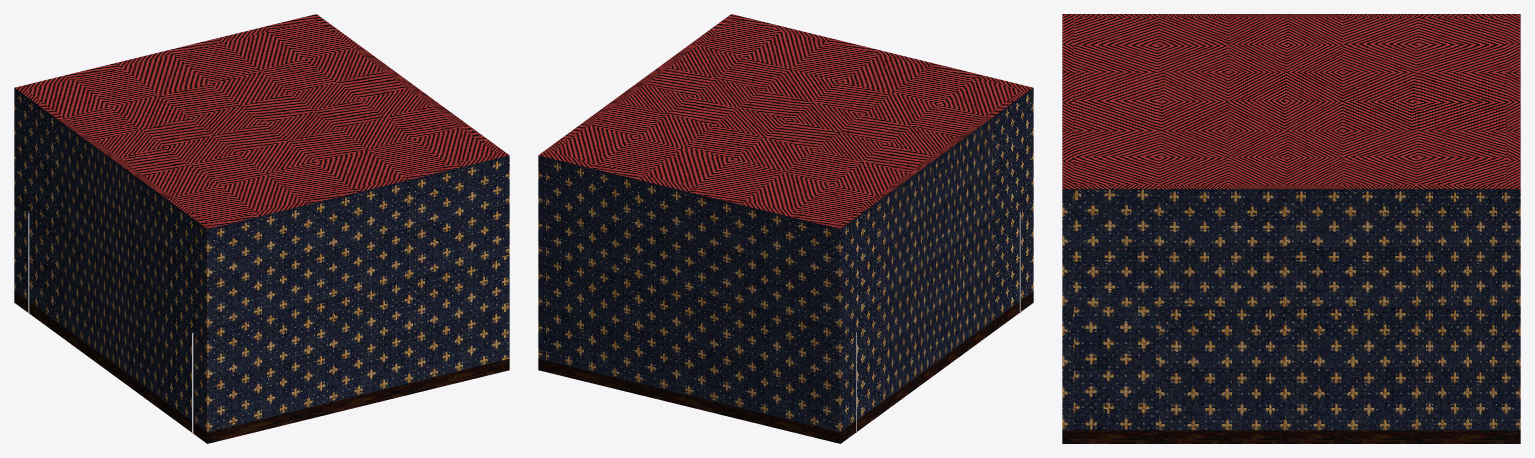
The model's file is RoomPrism.fbx.
3 renders of one model, left to right at view 1: azimuth 30°, elevation 25°; view 2: azimuth 150°, elevation 25°; view 3: azimuth 270°, elevation 25°, orthographic. The views are drawn at different scales.
Visible parts, largest first — view 1: RoomPrism; view 2: RoomPrism; view 3: RoomPrism.
Part boxes in pixels (bbox=[...]): RoomPrism: bbox=[14, 14, 509, 443]; RoomPrism: bbox=[538, 14, 1033, 443]; RoomPrism: bbox=[1062, 14, 1520, 443].
Size of the model in its own units: 5.22 by 3.53 by 5.75.
